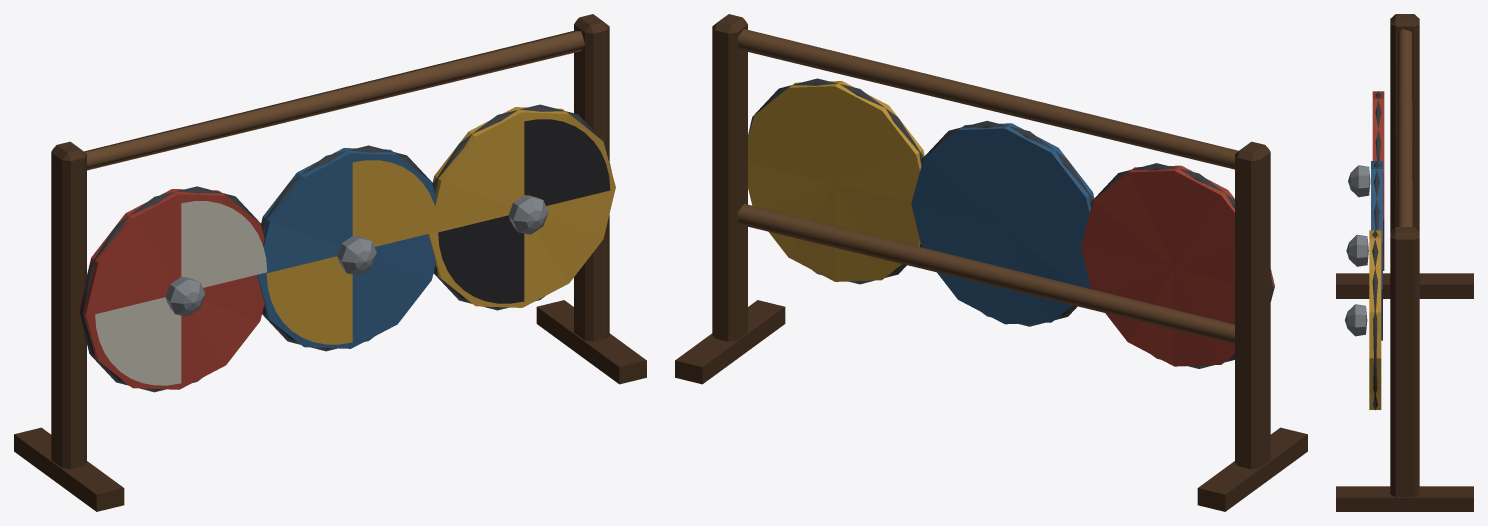
The model's file is shield-rack.glb.
3 renders of one model, left to right at view 1: azimuth 30°, elevation 25°; view 2: azimuth 150°, elevation 25°; view 3: azimuth 270°, elevation 25°, orthographic. The views are drawn at different scales.
Visible parts, largest first — view 1: shield_rack; view 2: shield_rack; view 3: shield_rack.
Part boxes in pixels (x1,y1,x2,y2): shield_rack: (14,14,646,511); shield_rack: (675,14,1307,511); shield_rack: (1336,14,1473,511).
Bounding box in the file's own units: 2 × 1.15 × 0.5201.
